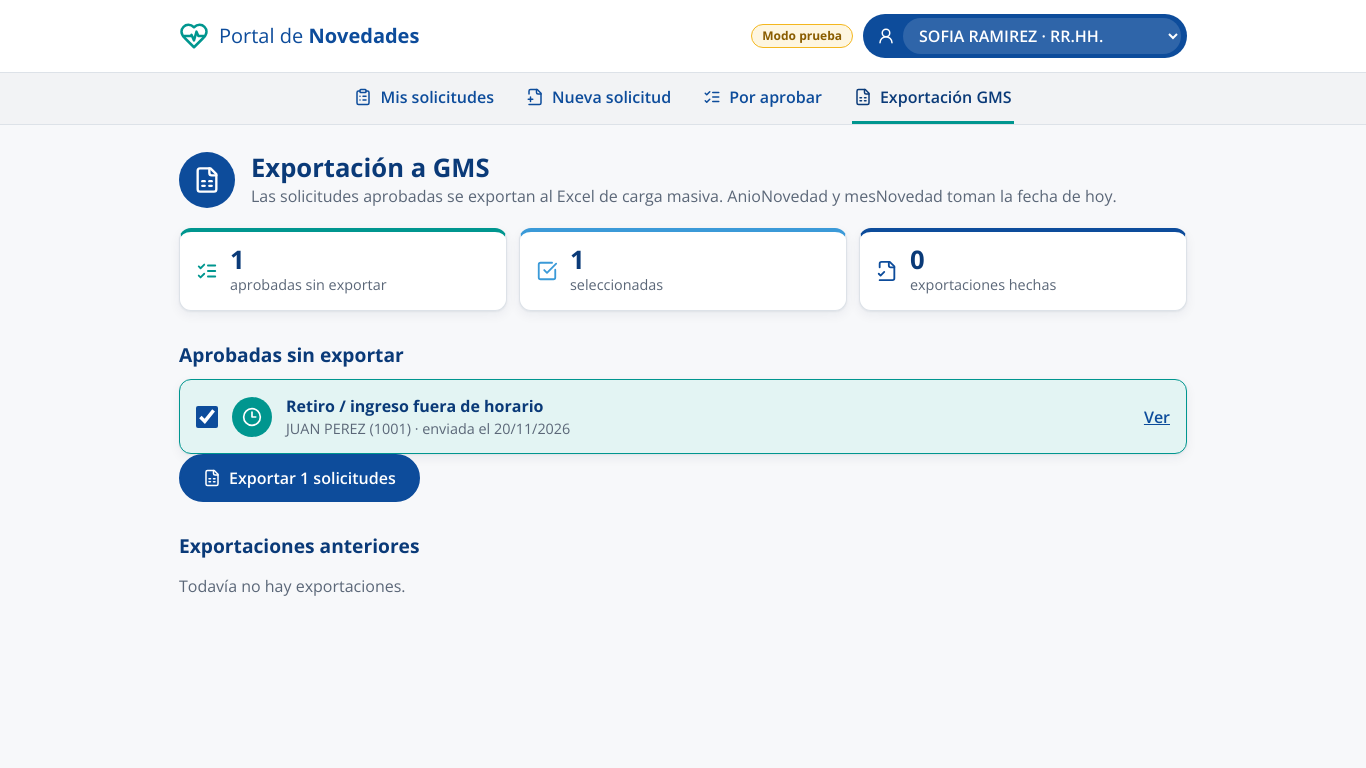
Scenario: Exportación a GMS › muestra por qué no se pudo exportar
Click the button "Exportar 1 solicitudes" at (299, 478), box [179,454,420,502]
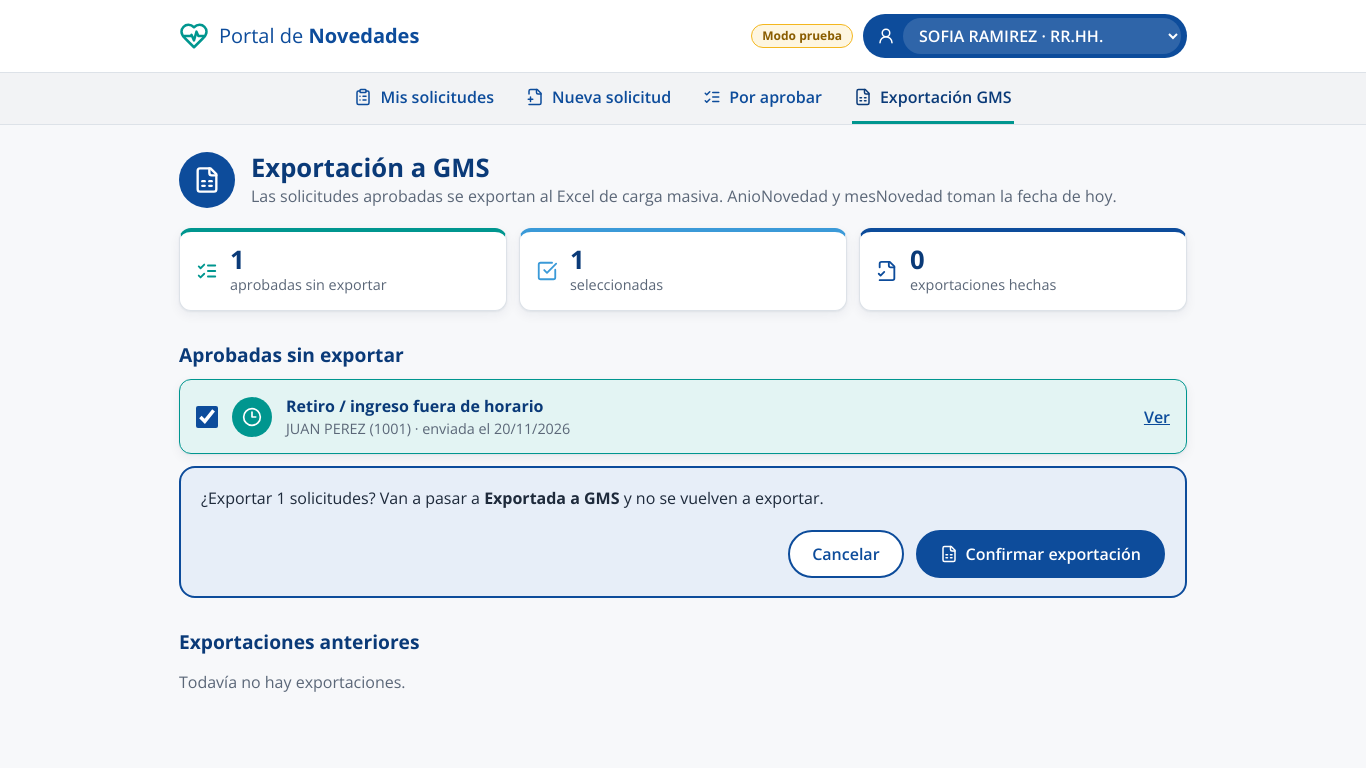
Click the button "Confirmar exportación" at (1040, 554), box [916,530,1165,578]
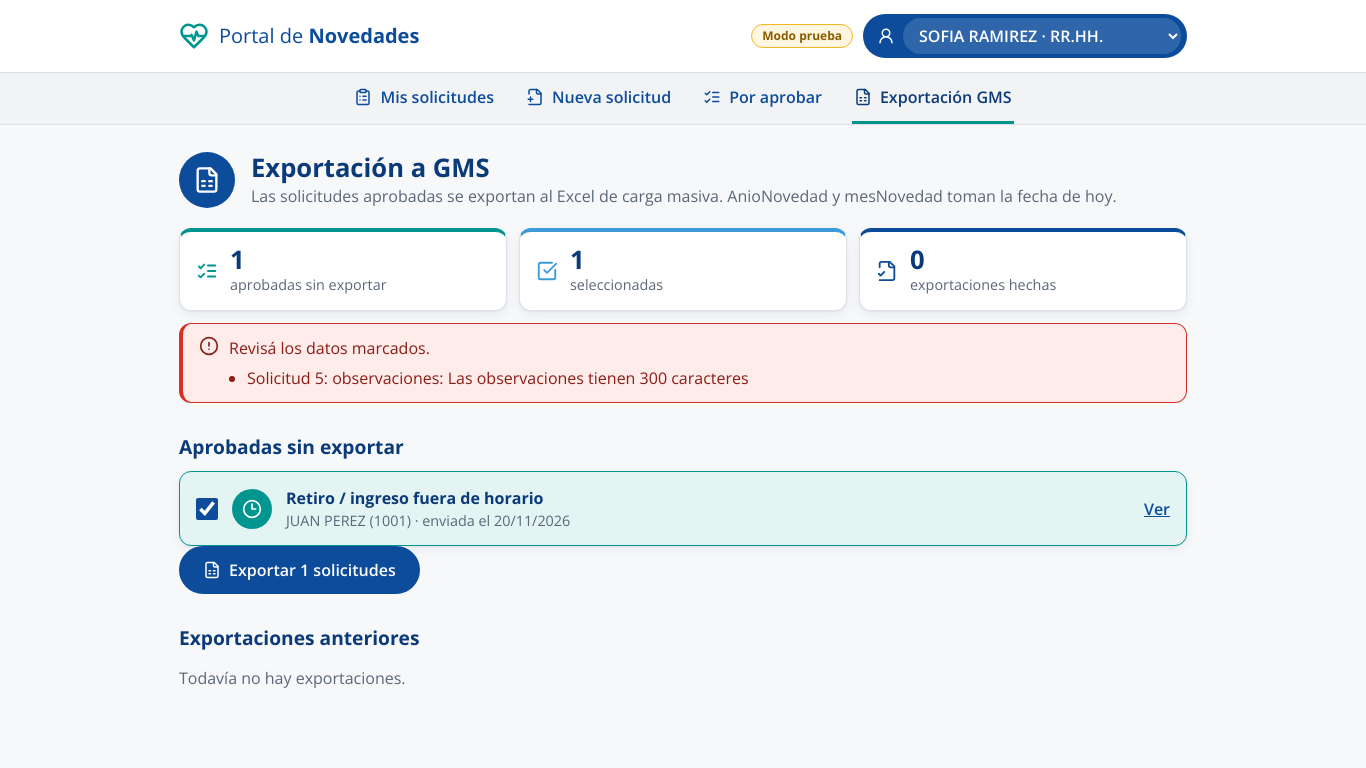
Result: the list item "Solicitud 5: observaciones" is shown at [247,366,749,390]
